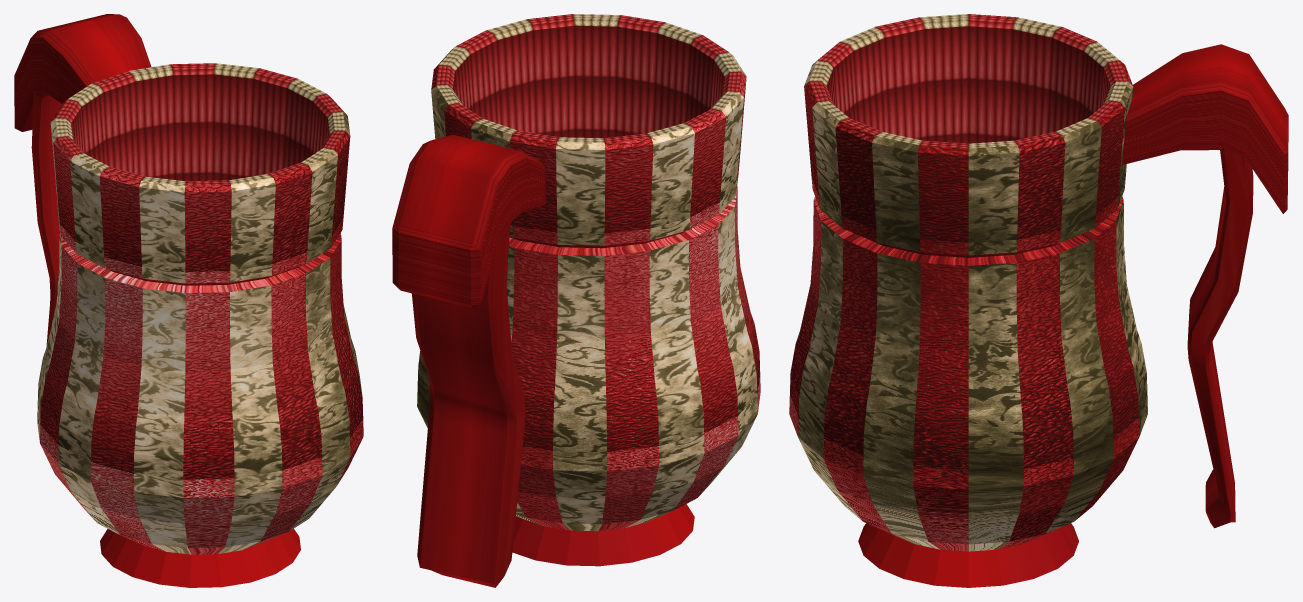
Rendered from my_vessel.fbx.
The picture shows the model from 3 angles, left to right: view 1: azimuth 30°, elevation 25°; view 2: azimuth 150°, elevation 25°; view 3: azimuth 270°, elevation 25°; orthographic projection. The views are drawn at different scales.
Visible parts, largest first — view 1: pCylinder1, pCube2; view 2: pCylinder1, pCube2; view 3: pCylinder1, pCube2.
Part boxes in pixels (x1,y1,x2,y2): pCylinder1: [37, 63, 363, 587]; pCube2: [14, 14, 151, 345]; pCylinder1: [417, 14, 760, 566]; pCube2: [392, 134, 545, 587]; pCylinder1: [789, 14, 1147, 587]; pCube2: [1122, 44, 1288, 528].
Size of the model in its own units: 3.43 by 5.05 by 4.78.
5 materials, 4 textured.
